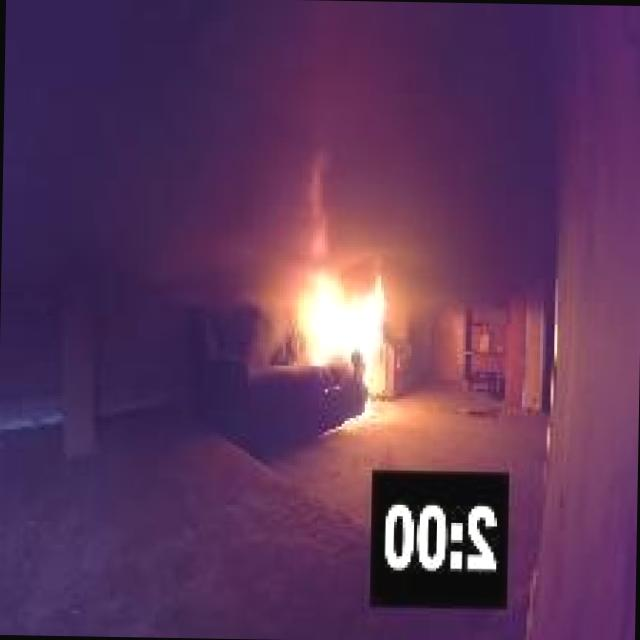fire: (278, 238, 416, 417)
